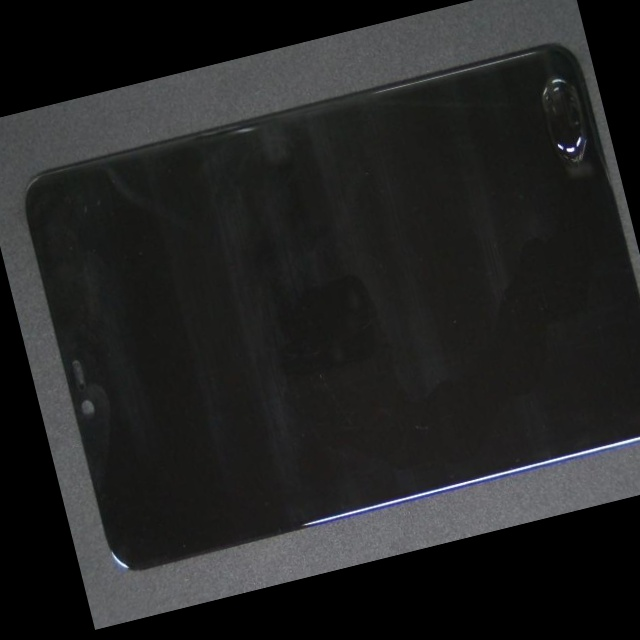oil: (291, 49, 610, 208)
